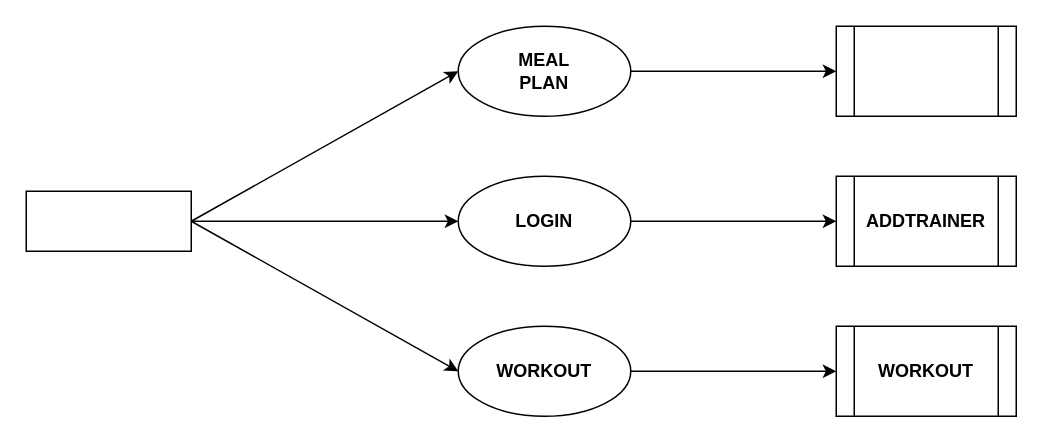
The diagram is 1043 pixels wide and 443 high, and some of its shapes have lost their labels. The shapes that lost their labels are listed below. From the top down, each one's centre as x and y in pixels, then its label:
At (x=925, y=70): "MEALPLAN".
At (x=108, y=220): "TRAINER".
